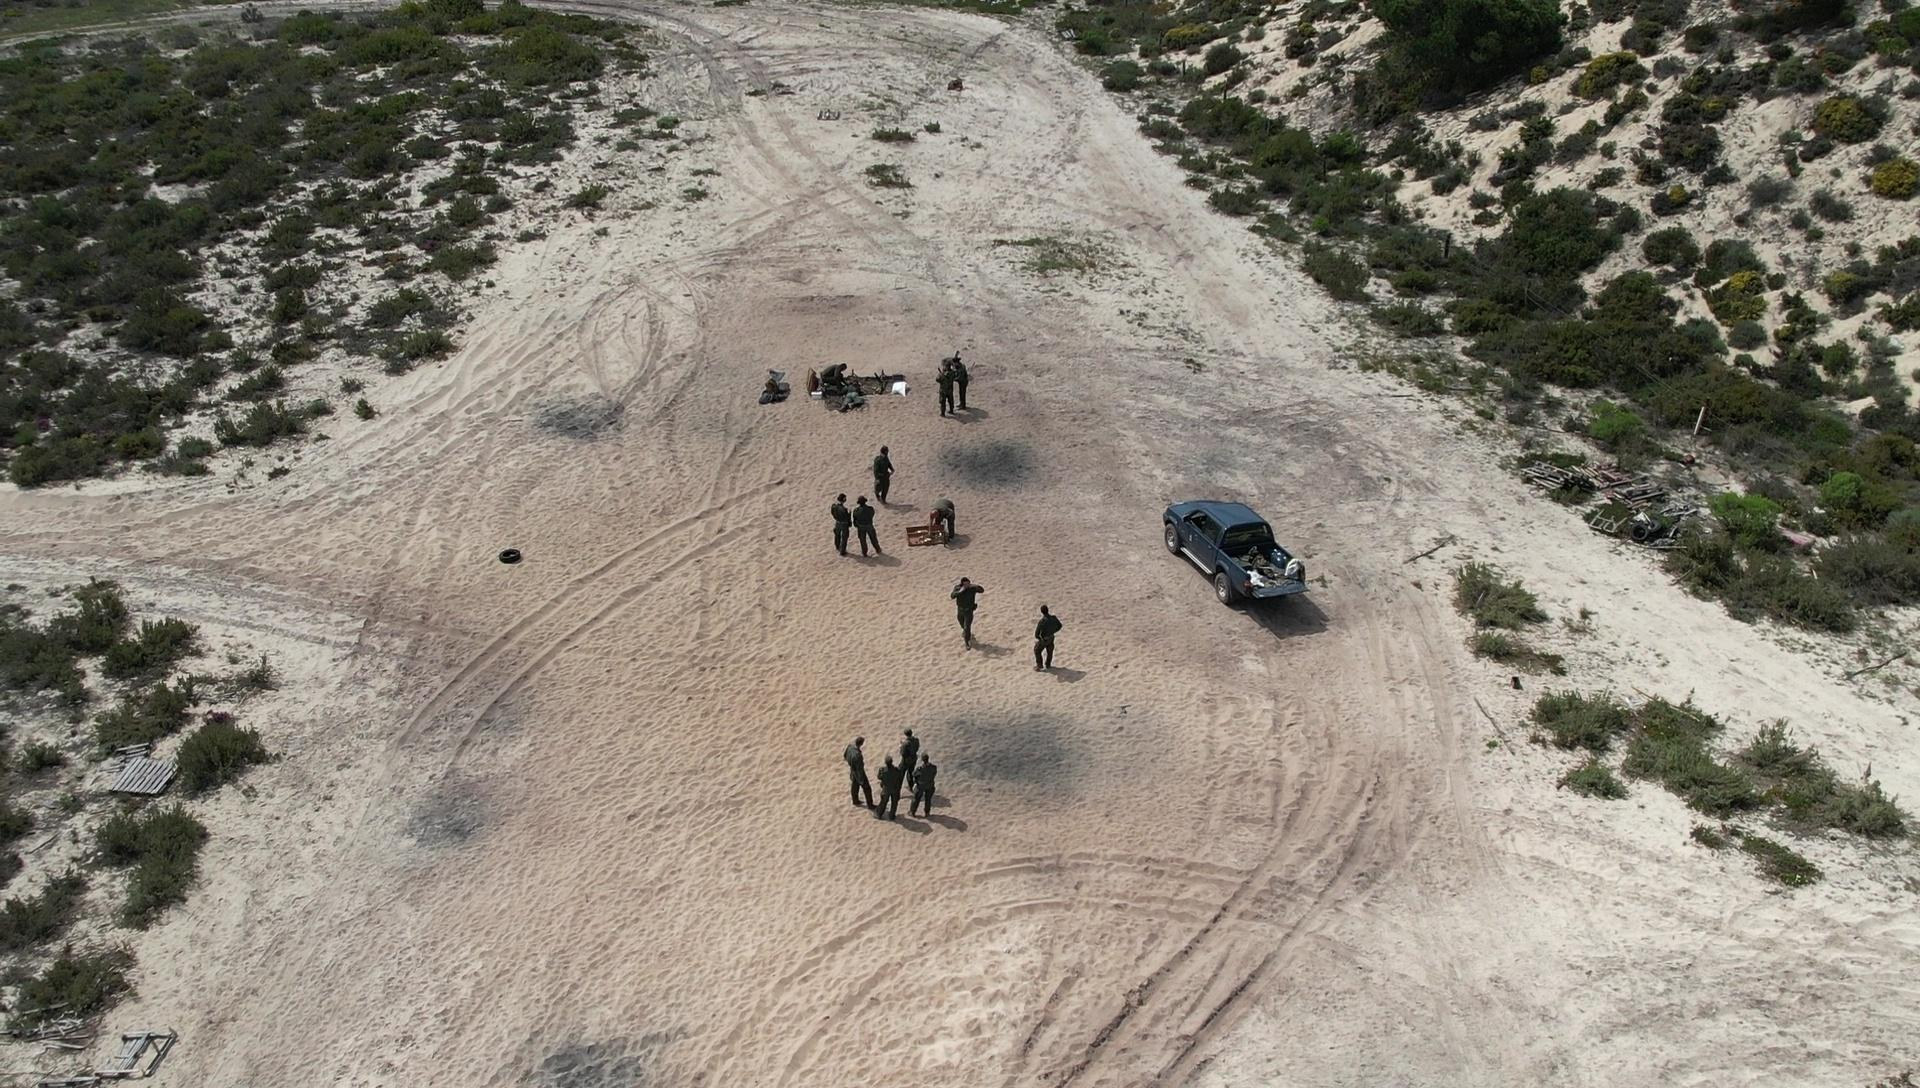Soldier: (841, 732, 886, 822), (1029, 599, 1069, 683), (947, 567, 986, 649), (864, 438, 905, 513), (847, 492, 885, 567), (877, 750, 910, 832), (907, 746, 942, 822), (924, 495, 963, 554), (829, 485, 858, 560), (936, 359, 963, 415), (822, 360, 853, 405), (895, 723, 930, 764), (948, 356, 971, 411), (839, 377, 868, 414)
